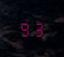nine: (19, 20, 31, 37)
three: (32, 19, 44, 36)
